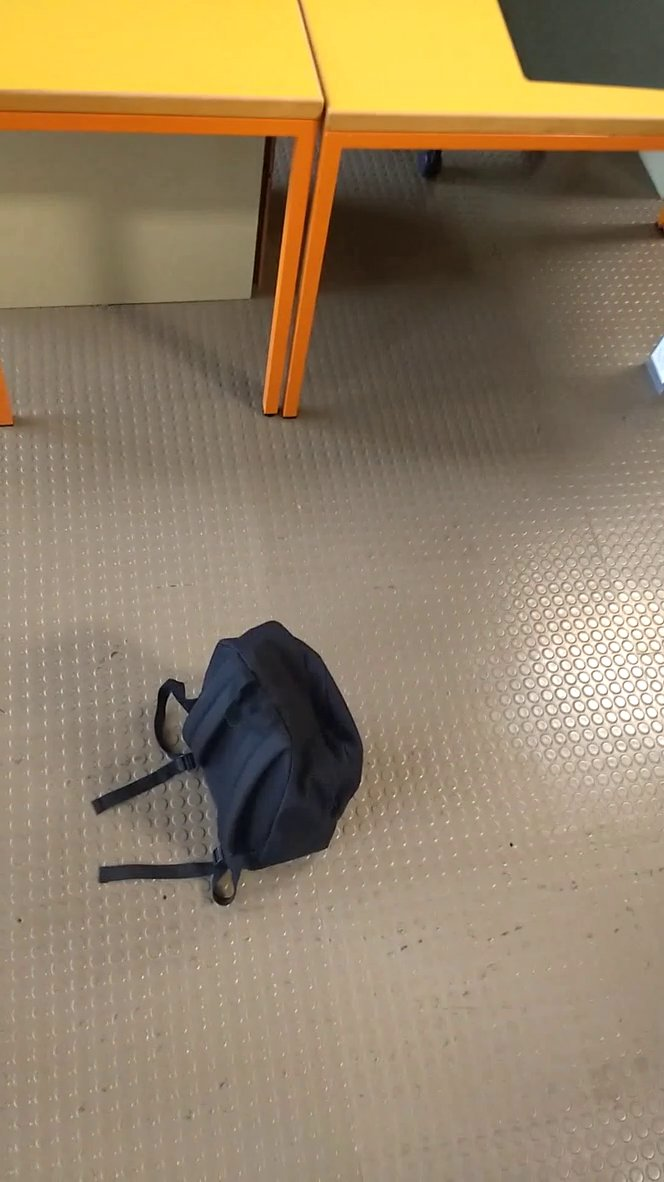bag: (80, 608, 380, 923)
